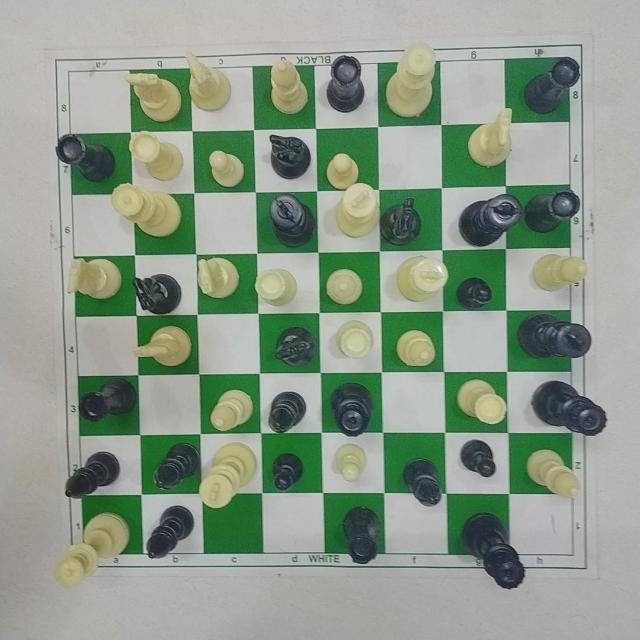black-bishop: (63, 449, 125, 499), (144, 505, 197, 563), (400, 456, 448, 505), (263, 389, 310, 432), (155, 445, 200, 489)
black-king: (515, 310, 597, 363), (454, 190, 528, 248), (263, 192, 320, 246)
black-knight: (381, 194, 426, 250), (131, 271, 187, 316), (266, 131, 314, 180), (273, 322, 323, 367)
black-pawn: (456, 275, 498, 315), (461, 438, 497, 480), (270, 452, 302, 490)
black-queen: (458, 510, 527, 590), (532, 377, 609, 438), (327, 378, 375, 439)
black-rook: (521, 54, 586, 118), (67, 377, 140, 423), (53, 130, 115, 182), (526, 187, 584, 237), (324, 54, 371, 114), (340, 504, 384, 566)
white-bishop: (526, 449, 581, 501), (268, 56, 314, 114), (531, 250, 588, 292), (206, 384, 255, 432), (320, 265, 369, 309), (393, 326, 437, 372)
white-king: (199, 444, 257, 507), (396, 254, 450, 306), (335, 184, 381, 242)
white-knight: (461, 104, 519, 175), (176, 51, 239, 113), (121, 71, 185, 123), (63, 254, 127, 306), (134, 322, 196, 370), (195, 253, 242, 305)
white-pawn: (205, 147, 247, 189), (325, 146, 364, 186), (333, 441, 368, 484)
white-queen: (48, 510, 133, 586), (382, 40, 442, 124), (109, 182, 184, 240)
white-rook: (125, 132, 186, 182), (459, 378, 507, 428), (335, 317, 381, 361), (255, 267, 297, 307)
